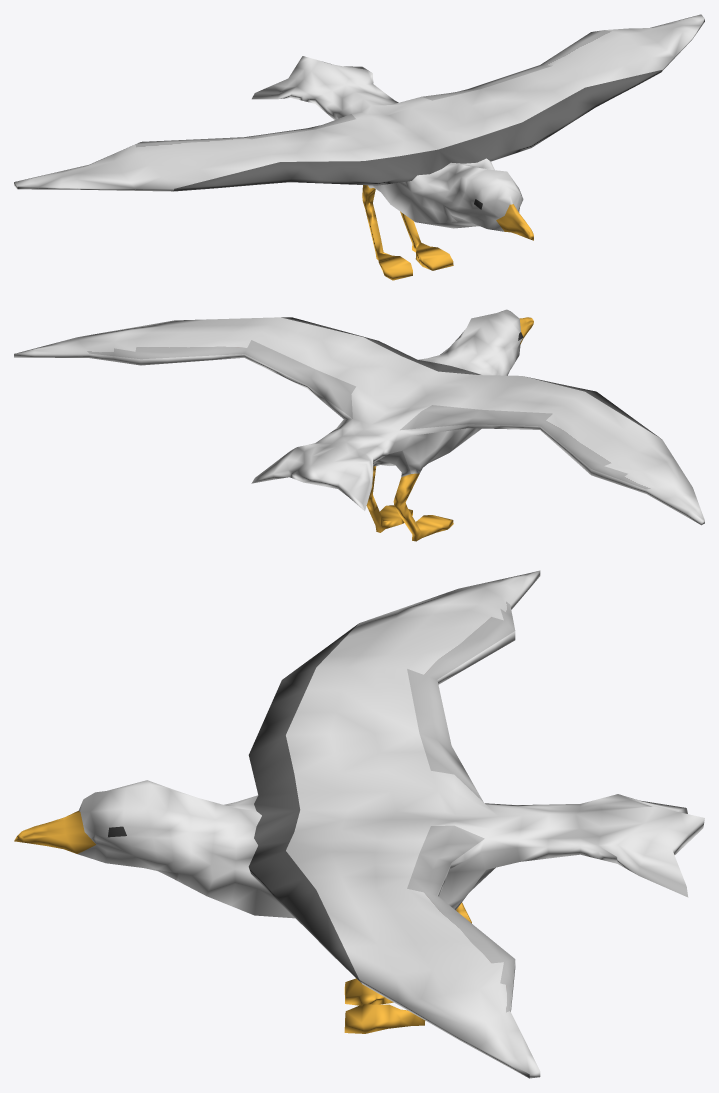
File: seagull.glb
The picture shows the model from 3 angles, top to bottom: view 1: azimuth 30°, elevation 25°; view 2: azimuth 150°, elevation 25°; view 3: azimuth 270°, elevation 25°; orthographic projection. The views are drawn at different scales.
Parts seen in each view (by area): view 1: Object_5; view 2: Object_5; view 3: Object_5.
Boxes of the visible parts, <box> form: Object_5: <box>14,14,704,280</box>; Object_5: <box>14,309,704,541</box>; Object_5: <box>14,570,704,1078</box>.
Bounding box in the file's own units: 3.32 × 0.7191 × 1.93.
1 material, 1 textured.
